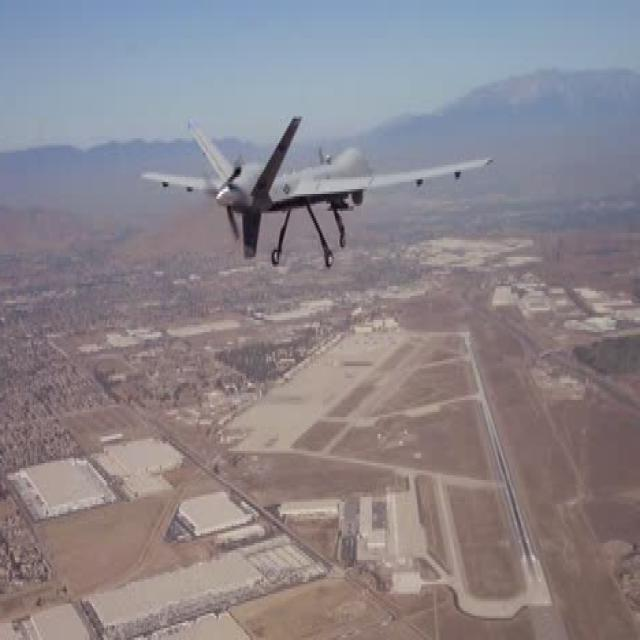iha: (136, 113, 497, 271)
